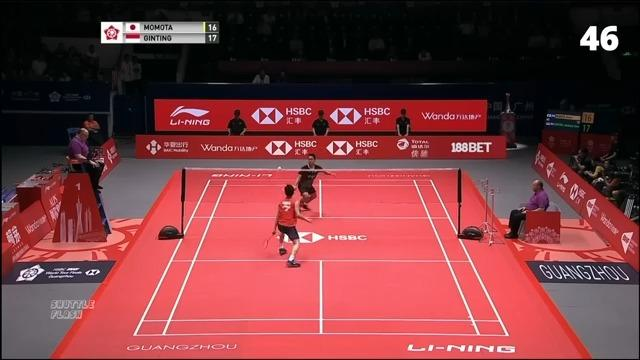Shuttlecock: (274, 164, 284, 172)
